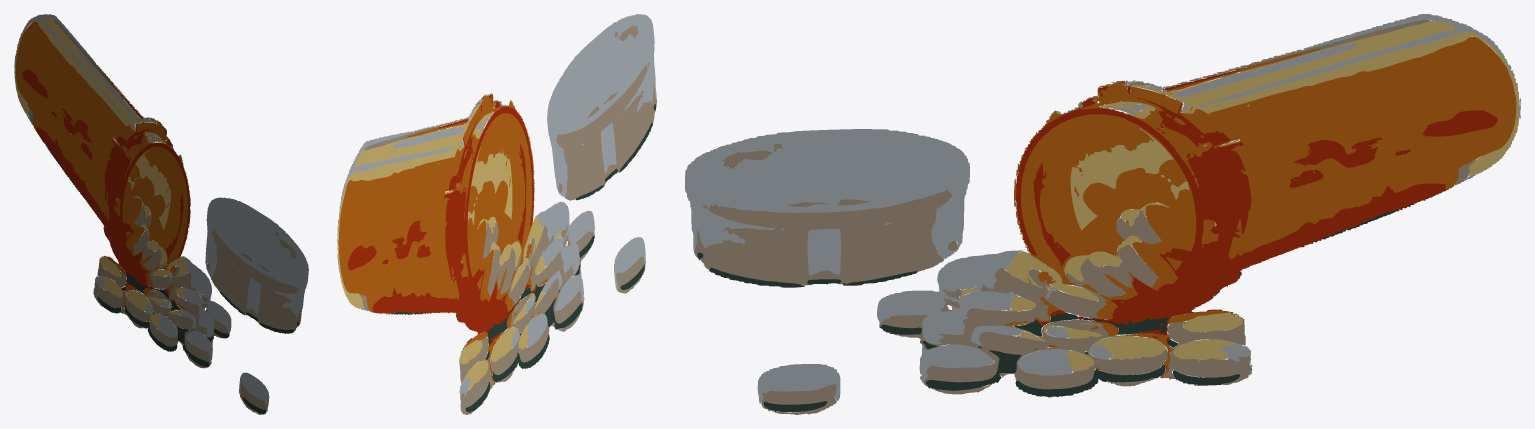
The model's file is morfin2.gltf.
3 renders of one model, left to right at view 1: azimuth 30°, elevation 25°; view 2: azimuth 150°, elevation 25°; view 3: azimuth 270°, elevation 25°, orthographic. The views are drawn at different scales.
Visible parts, largest first — view 1: path5; view 2: path5; view 3: path5.
Boxes of the visible parts, x1,y1,x2,y2 form: path5: (14,14,308,414); path5: (337,14,656,414); path5: (685,14,1520,414).
Bounding box in the file's own units: 0.2571 × 1.64 × 3.1.
